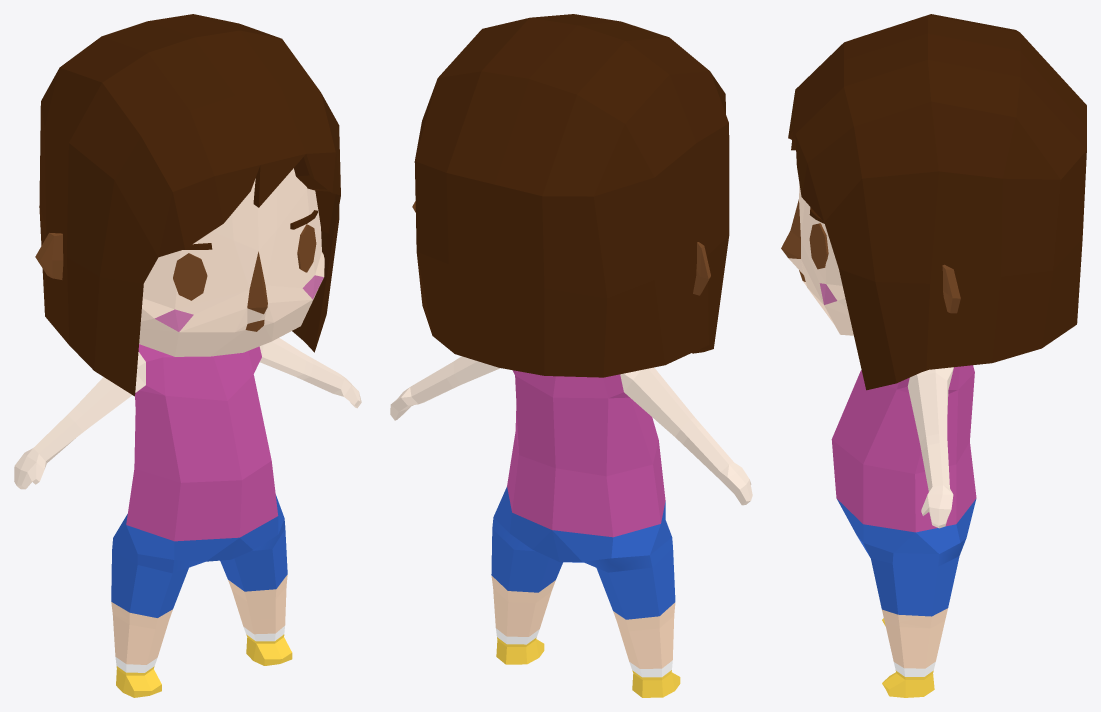
File: avatar.glb
3 renders of one model, left to right at view 1: azimuth 30°, elevation 25°; view 2: azimuth 150°, elevation 25°; view 3: azimuth 270°, elevation 25°, orthographic. The views are drawn at different scales.
Visible parts, largest first — view 1: Object_5; view 2: Object_5; view 3: Object_5.
Part boxes in pixels (x1,y1,x2,y2): Object_5: [14, 14, 361, 697]; Object_5: [390, 14, 752, 697]; Object_5: [781, 14, 1086, 697].
Size of the model in its own units: 12.06 by 21.03 by 9.34.
1 material, 1 textured.
